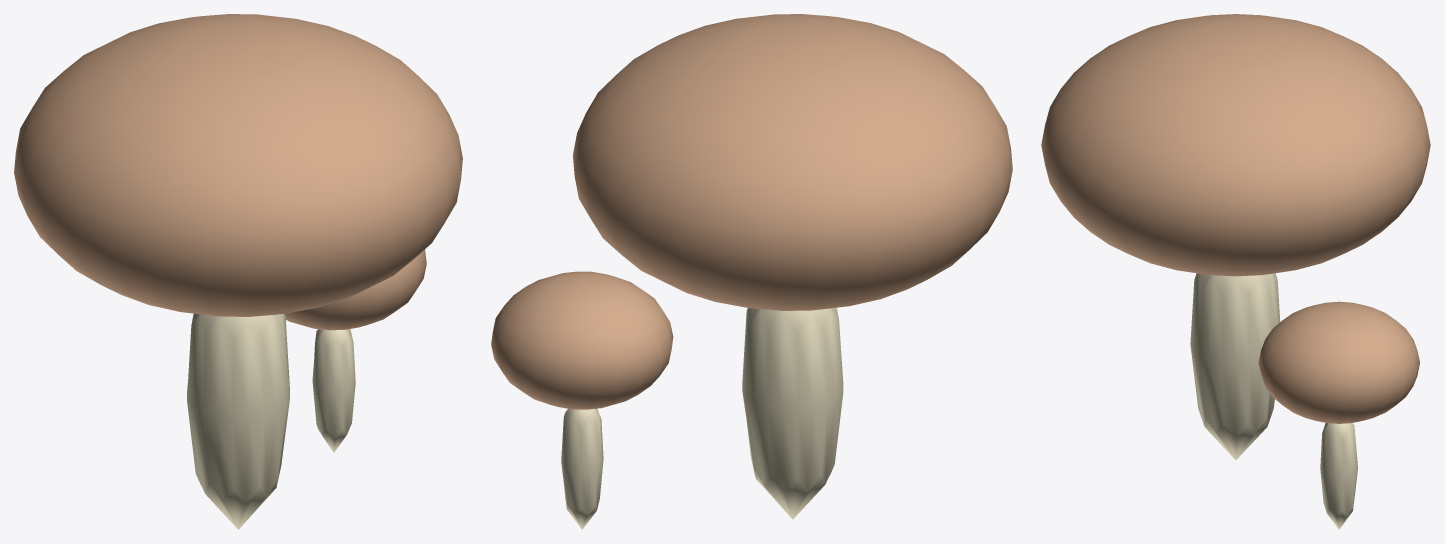
Rendered from mushroom.glb.
The picture shows the model from 3 angles, left to right: view 1: azimuth 30°, elevation 25°; view 2: azimuth 150°, elevation 25°; view 3: azimuth 270°, elevation 25°; orthographic projection. The views are drawn at different scales.
Parts seen in each view (by area): view 1: org_mushroom; view 2: org_mushroom; view 3: org_mushroom.
Part boxes in pixels (box(x1,y1,x2,y2)): org_mushroom: box(14, 14, 462, 529); org_mushroom: box(491, 14, 1012, 529); org_mushroom: box(1041, 14, 1430, 529).
Size of the model in its own units: 0.3334 by 0.3611 by 0.3016.
